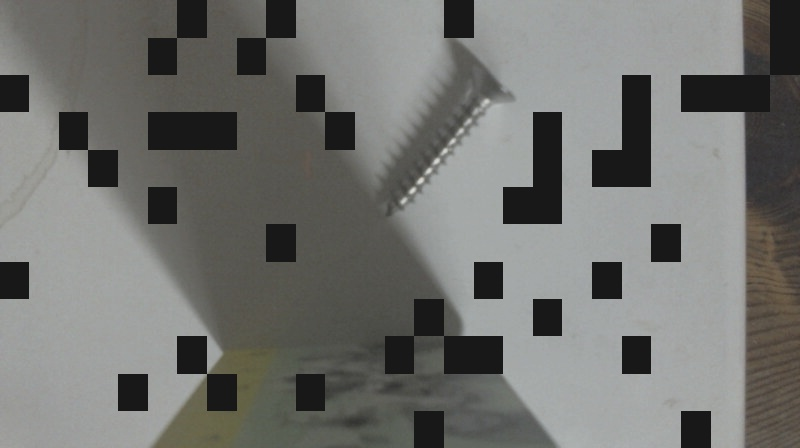S001: (377, 65, 519, 221)
